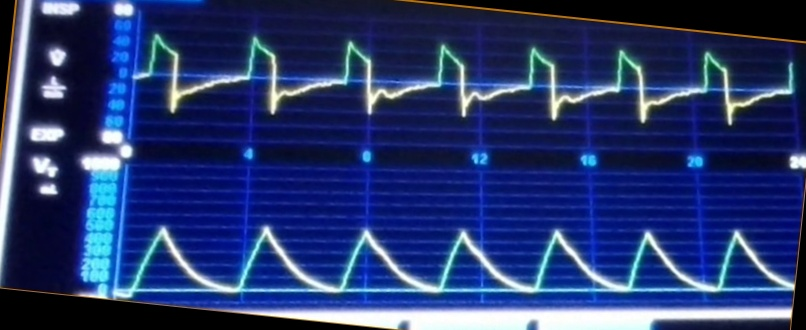Premature_cycling Flow: (139, 30, 794, 132)
Premature_cycling Volume: (122, 218, 793, 297)
